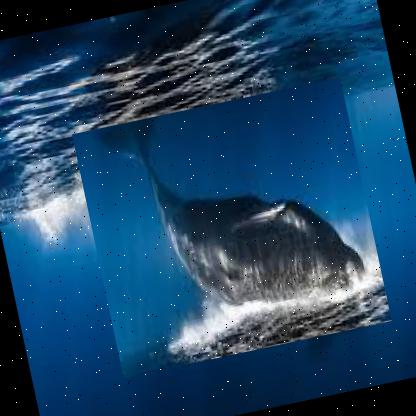sperm_whale: (72, 76, 392, 378)
